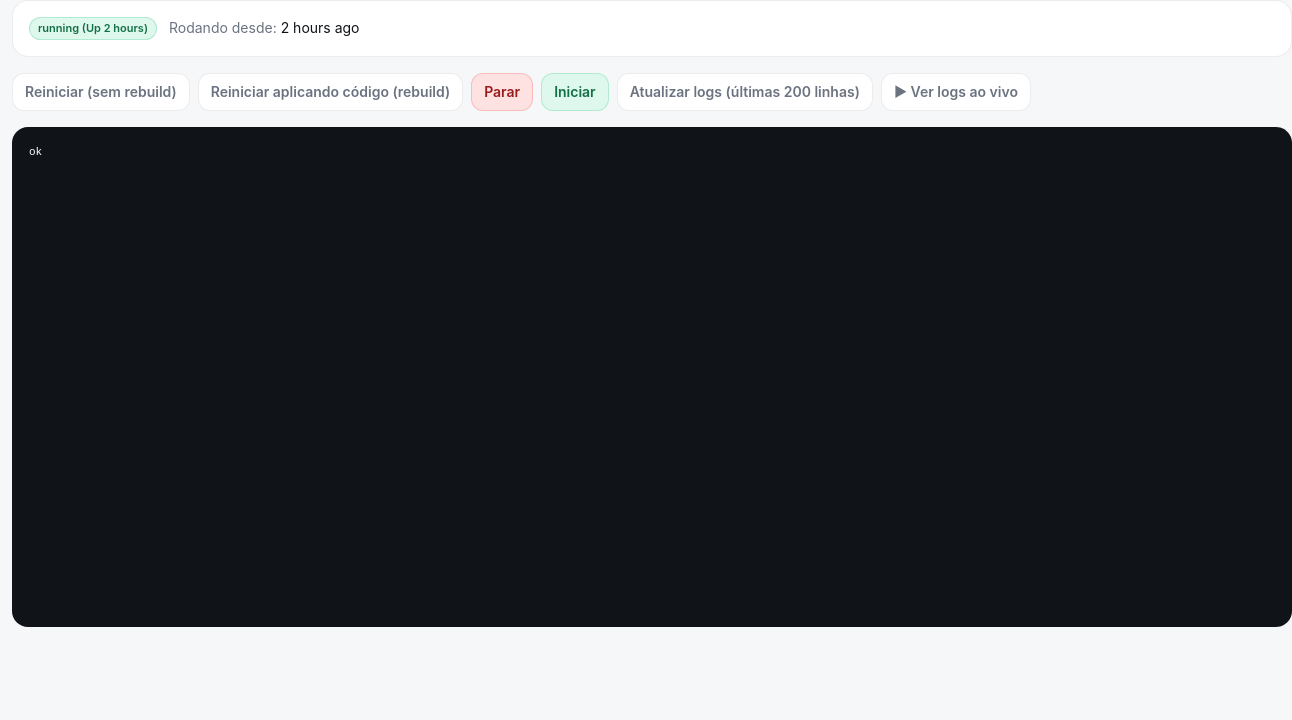
Test: BotControlPanel › mostra o erro devolvido pelo servidor quando o reinício falha
Check: the text "running (Up 2 hours)" is shown, box [29,17,157,40]
Click the button "Reiniciar (sem rebuild)" at (101, 92), box [12,72,190,110]
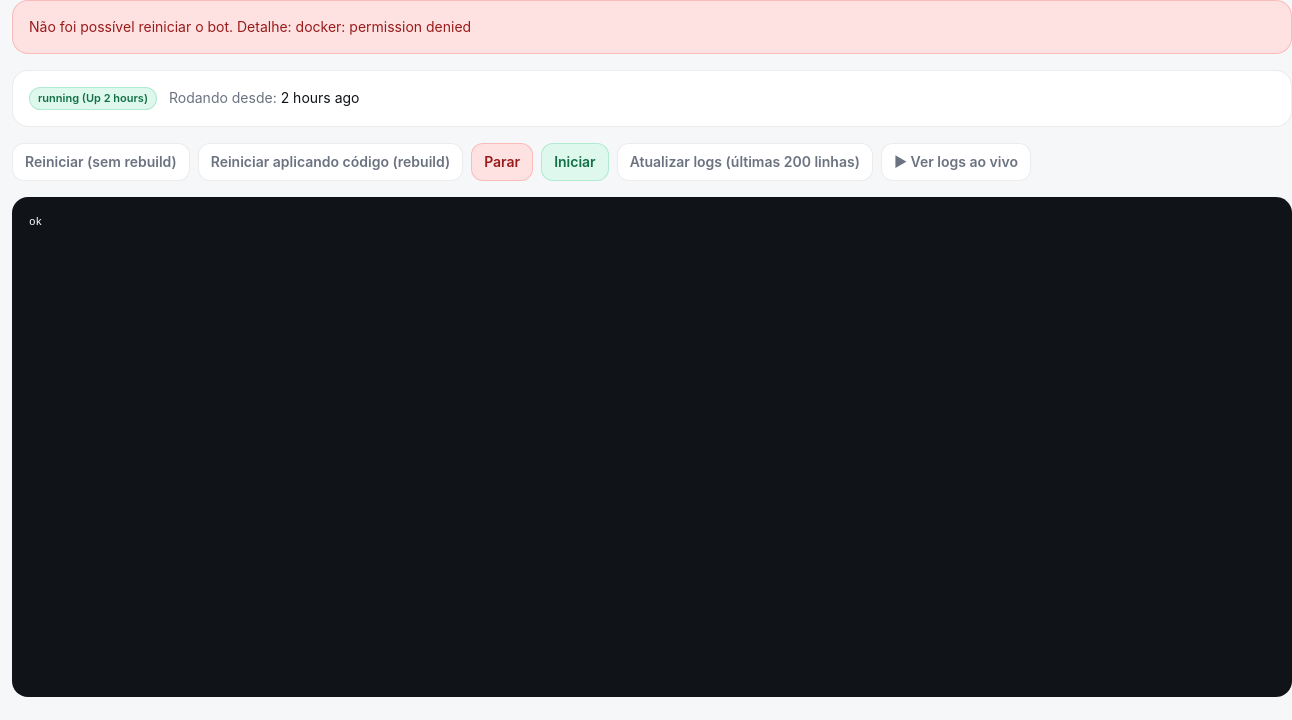
Check: the message shows "Não foi possível reiniciar", box [29,18,471,35]
Check: the message shows "permission denied", box [29,18,471,35]
